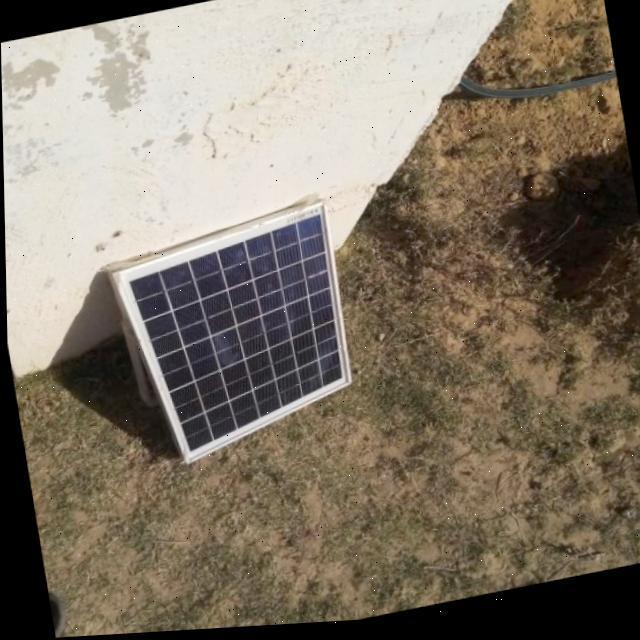Normal Solar Panel: (108, 202, 362, 474)
